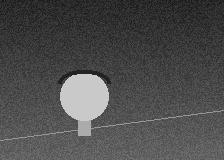no_helmet: (60, 70, 108, 125)
